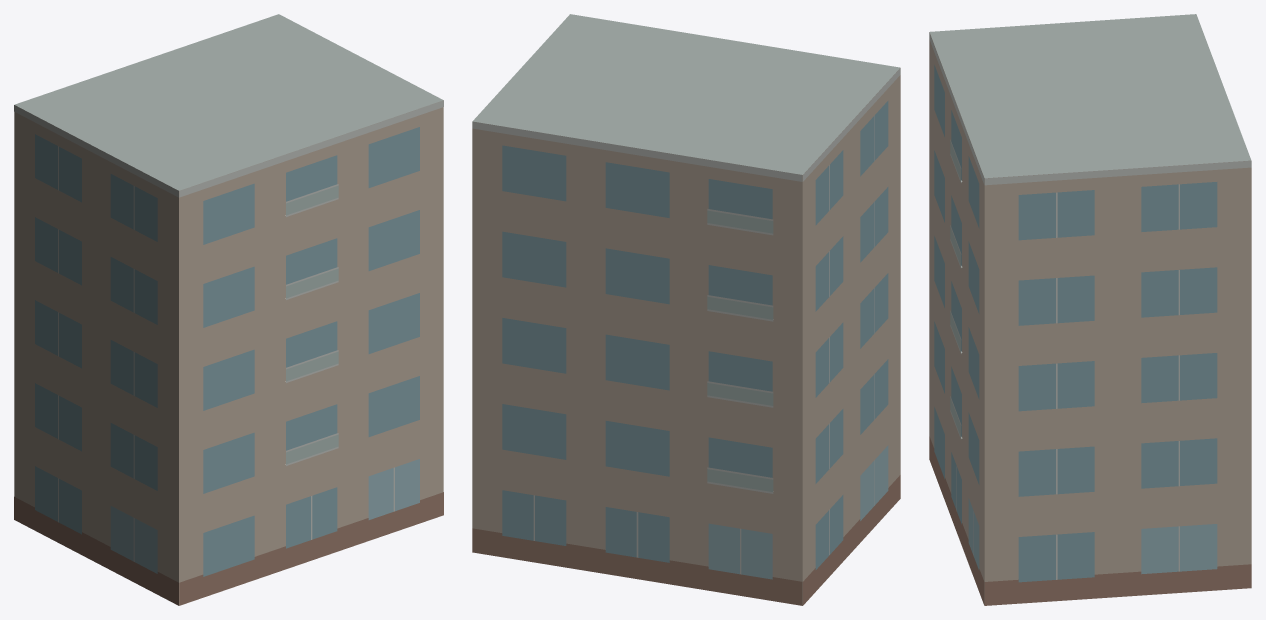
File: survey-upis-32621875.glb
3 renders of one model, left to right at view 1: azimuth 30°, elevation 25°; view 2: azimuth 150°, elevation 25°; view 3: azimuth 270°, elevation 25°, orthographic. The views are drawn at different scales.
Parts seen in each view (by area): view 1: survey-upis-32621875.tmp; view 2: survey-upis-32621875.tmp; view 3: survey-upis-32621875.tmp.
Part boxes in pixels (x1,y1,x2,y2): survey-upis-32621875.tmp: [14, 14, 443, 605]; survey-upis-32621875.tmp: [472, 14, 900, 605]; survey-upis-32621875.tmp: [929, 14, 1251, 605].
Bounding box in the file's own units: 12.33 × 14.95 × 10.22.
